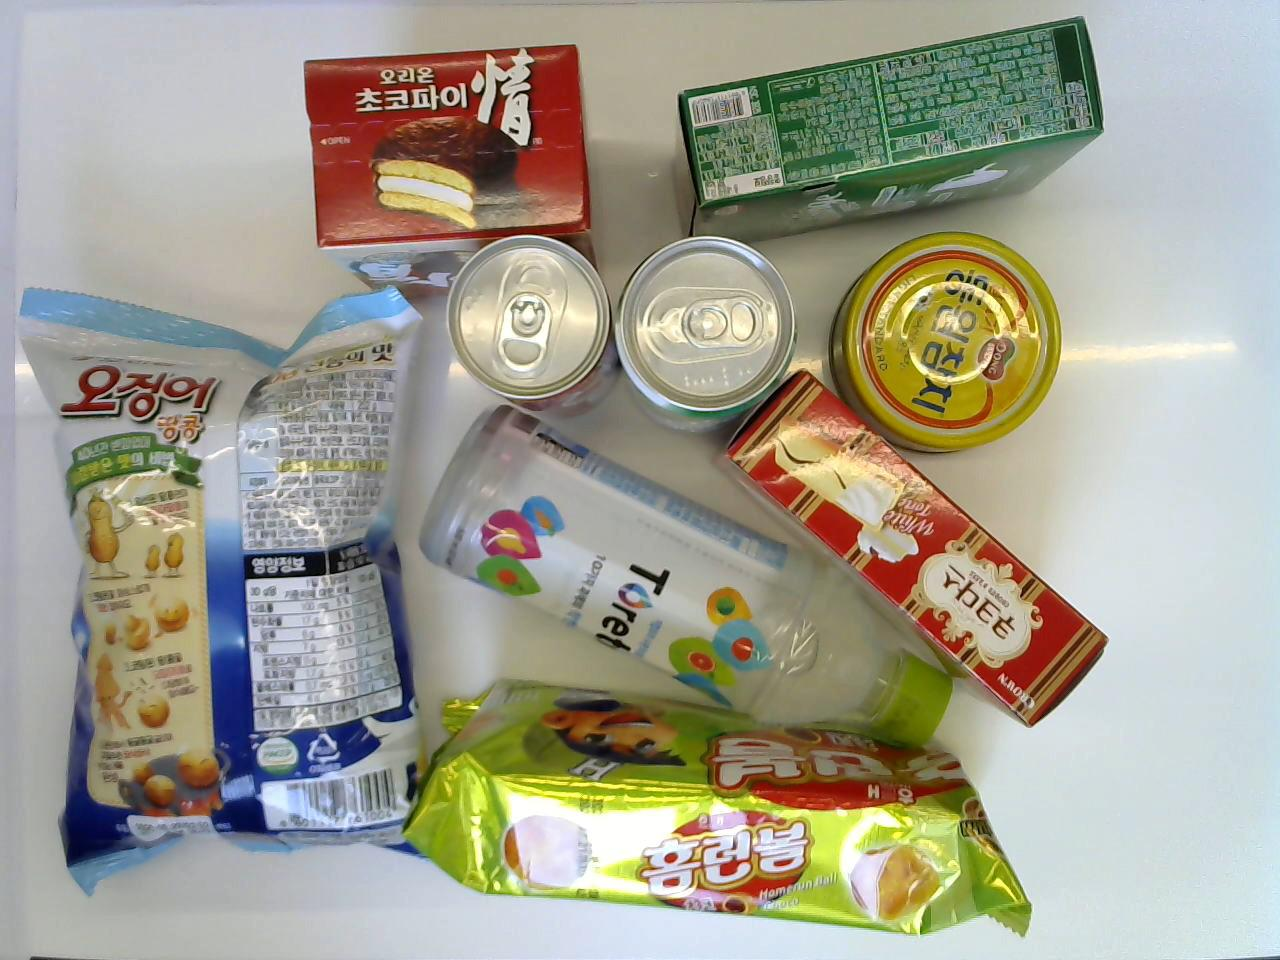chocopie: (300, 37, 598, 305)
cidar: (615, 233, 797, 437)
coke: (447, 232, 622, 421)
couque_coffee: (677, 13, 1102, 242)
couque_white: (711, 368, 1113, 732)
homerunball: (388, 673, 1038, 942)
squid_peanut: (17, 282, 445, 896)
toreta: (416, 398, 951, 748)
tuna: (826, 229, 1062, 461)
